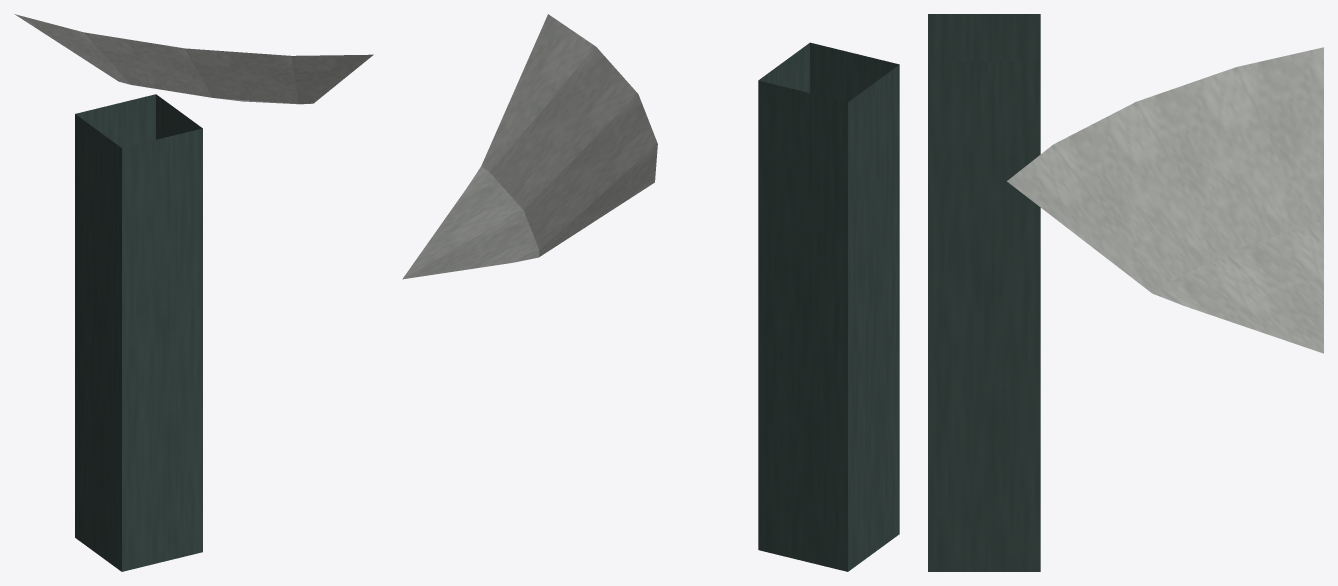
The model's file is cell_41.obj.
The picture shows the model from 3 angles, left to right: view 1: azimuth 30°, elevation 25°; view 2: azimuth 150°, elevation 25°; view 3: azimuth 270°, elevation 25°; orthographic projection. The views are drawn at different scales.
Bounding box in the file's own units: 0.7031 × 1 × 0.7031.
